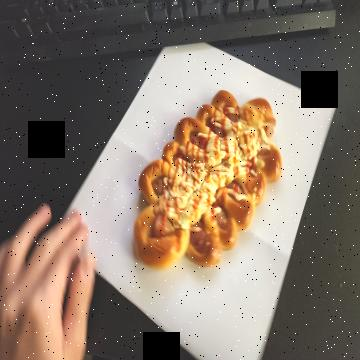pizza_bread: (134, 89, 284, 268)
